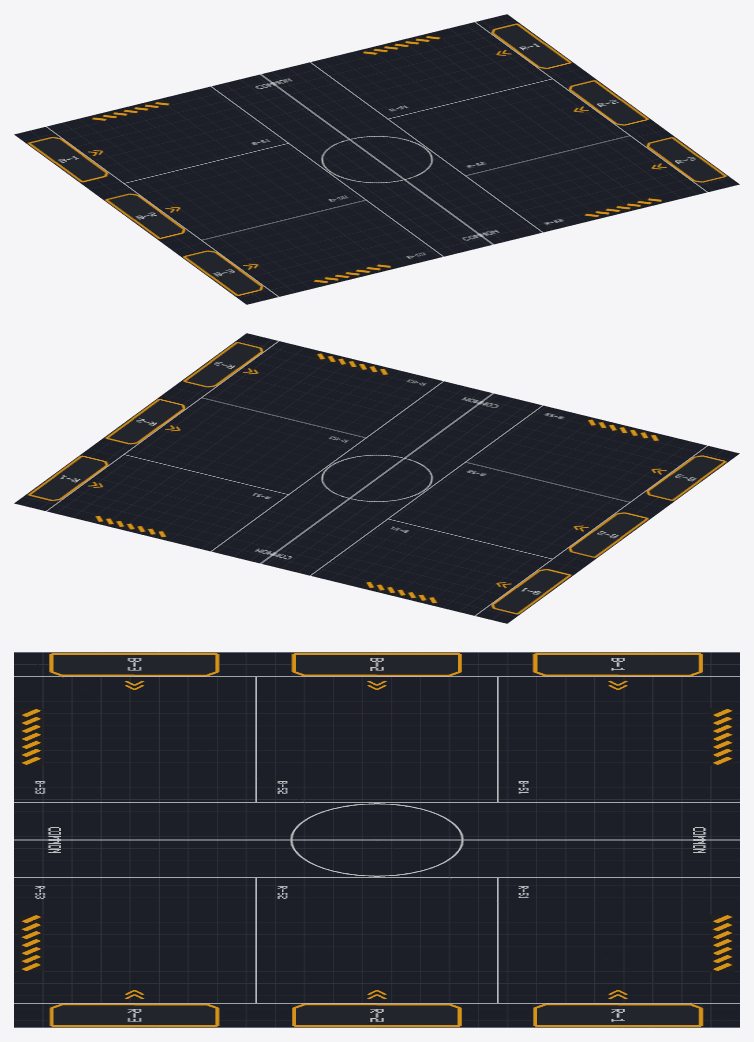
Rendered from field_markings.dae.
The picture shows the model from 3 angles, top to bottom: view 1: azimuth 30°, elevation 25°; view 2: azimuth 150°, elevation 25°; view 3: azimuth 270°, elevation 25°; orthographic projection. The views are drawn at different scales.
Parts seen in each view (by area): view 1: field_node; view 2: field_node; view 3: field_node.
Boxes of the visible parts, x1,y1,x2,y2 form: field_node: (14, 14, 739, 304); field_node: (14, 333, 739, 623); field_node: (14, 652, 739, 1027).
Size of the model in its own units: 6.12 by 5 by 0.
Materials: 1 (1 with a texture image).
